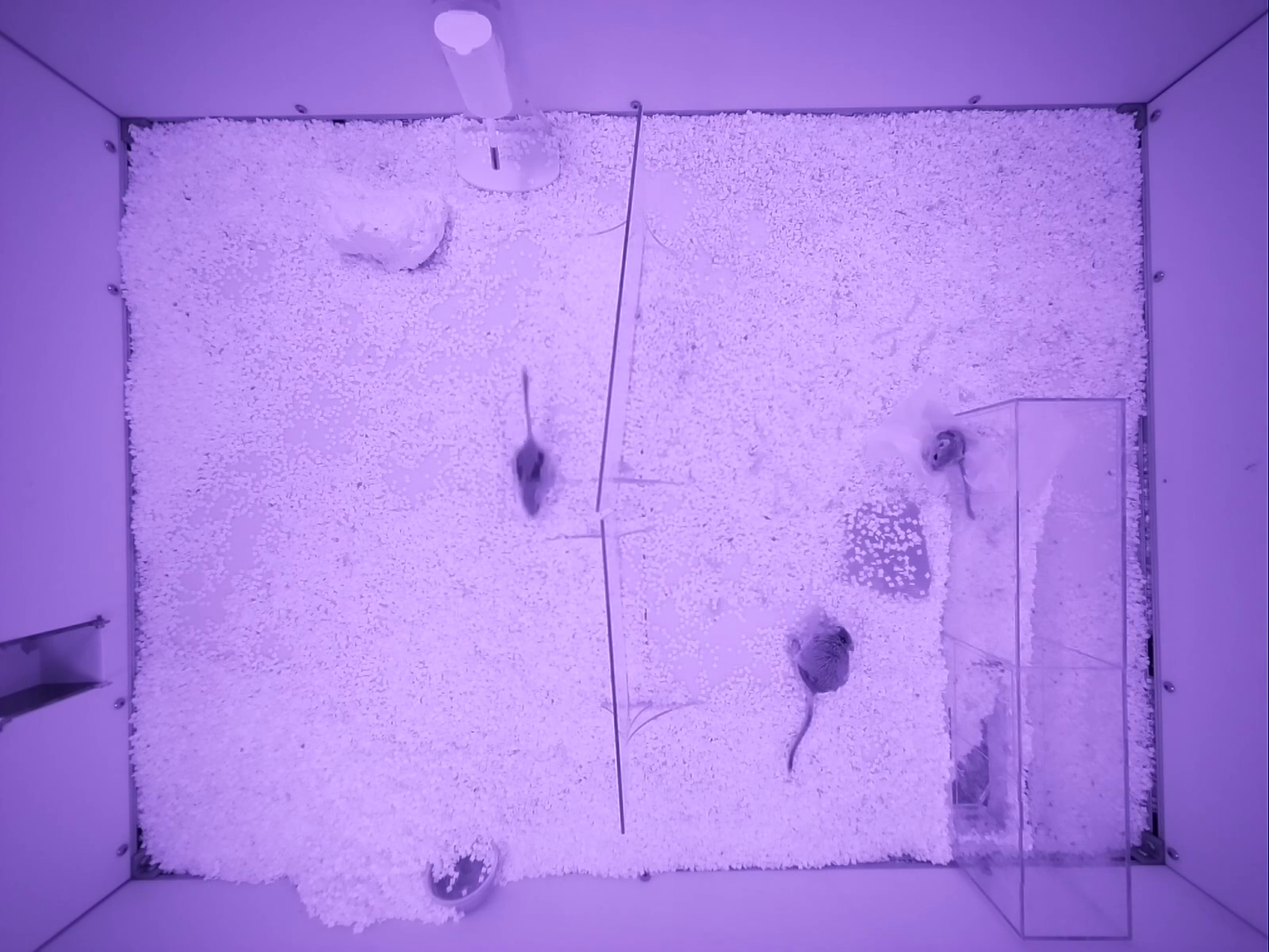adult_back: (788, 625, 853, 772), (514, 369, 549, 516), (923, 428, 975, 518)
